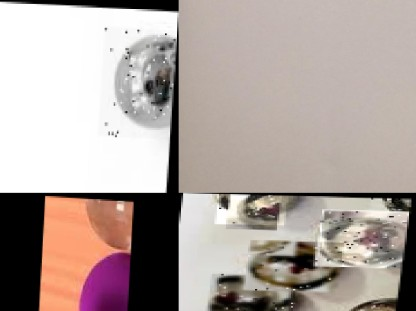ironball: (99, 23, 177, 136), (316, 208, 410, 266), (246, 239, 346, 291), (210, 273, 299, 311), (215, 194, 288, 224), (337, 287, 401, 311), (367, 197, 411, 228)
